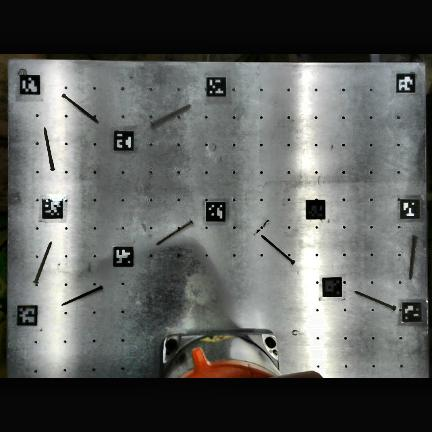golden_screw: (62, 94, 98, 122), (157, 220, 193, 245), (262, 236, 294, 264), (152, 105, 190, 126), (62, 286, 103, 305), (34, 241, 52, 284), (356, 291, 395, 310), (44, 128, 55, 170), (410, 235, 417, 279)
marker: (17, 304, 38, 325), (400, 198, 420, 219), (42, 198, 62, 218), (113, 246, 133, 266), (114, 130, 134, 150), (206, 75, 226, 95), (403, 300, 422, 321), (206, 201, 225, 222), (20, 75, 40, 94), (396, 73, 415, 93), (306, 200, 325, 219), (323, 278, 342, 296)
